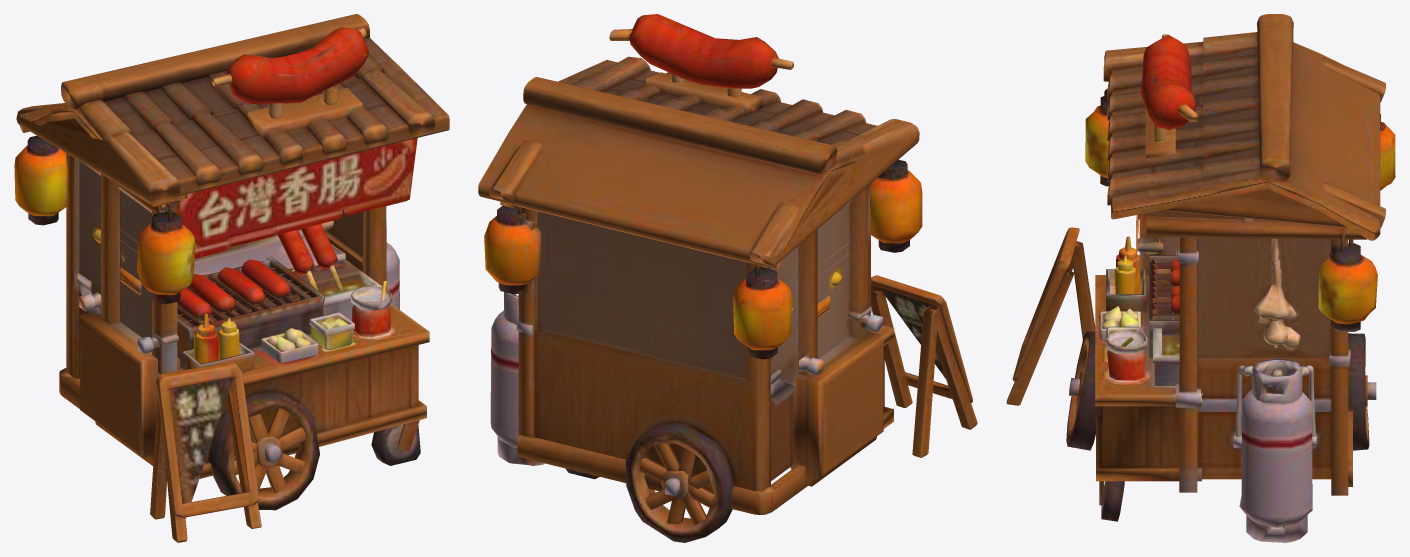
File: stall-sausage-lite.glb
The picture shows the model from 3 angles, left to right: view 1: azimuth 30°, elevation 25°; view 2: azimuth 150°, elevation 25°; view 3: azimuth 270°, elevation 25°; orthographic projection.
Parts seen in each view (by area): view 1: tripo_node_abcf8b99-9acb-45ab-a69b-eb0297e276d3; view 2: tripo_node_abcf8b99-9acb-45ab-a69b-eb0297e276d3; view 3: tripo_node_abcf8b99-9acb-45ab-a69b-eb0297e276d3.
Part boxes in pixels (x1=…): tripo_node_abcf8b99-9acb-45ab-a69b-eb0297e276d3: x1=14, y1=14, x2=449, y2=542; tripo_node_abcf8b99-9acb-45ab-a69b-eb0297e276d3: x1=478, y1=14, x2=977, y2=542; tripo_node_abcf8b99-9acb-45ab-a69b-eb0297e276d3: x1=1006, y1=14, x2=1395, y2=542.
Size of the model in its own units: 0.8554 by 0.9888 by 0.8315.
1 material, 1 textured.
